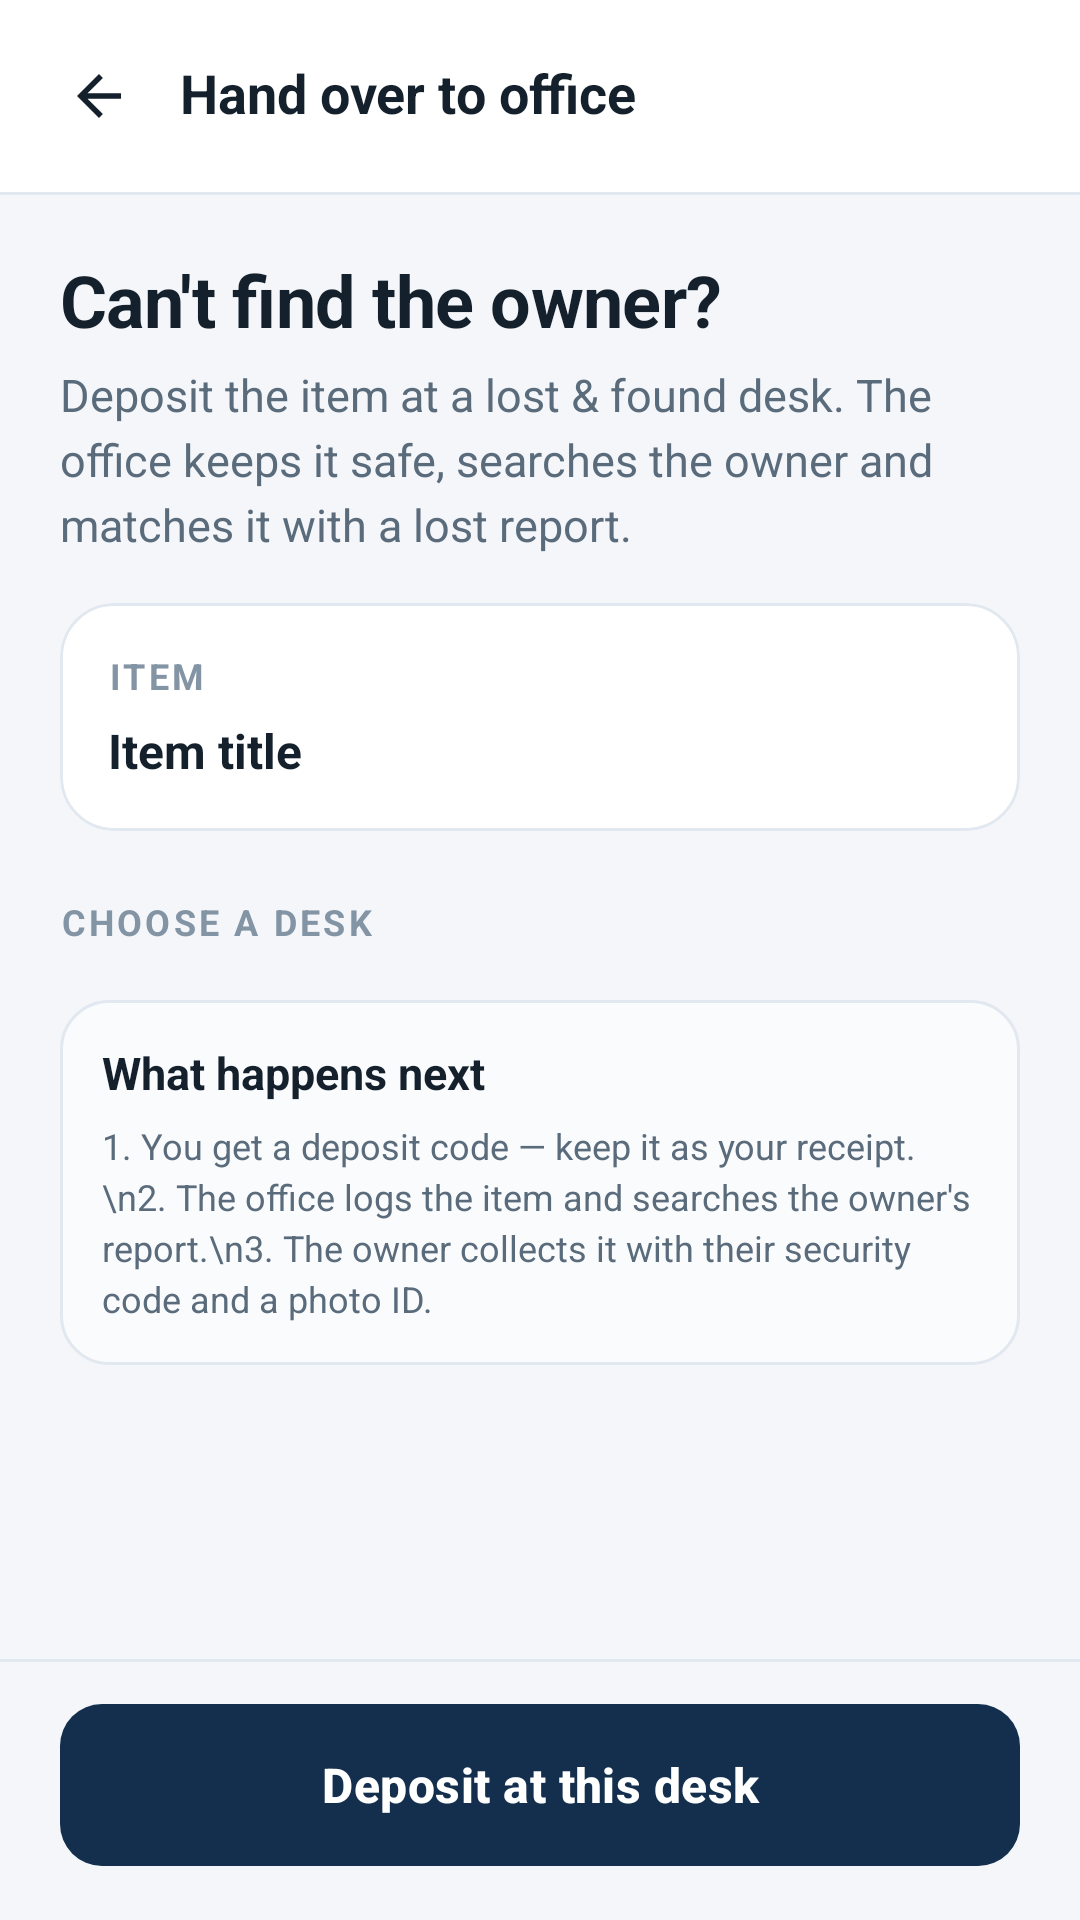

Where icons sit on this 1080 × 1920 app screen, as (x1, y1, x2, y2):
Back: (77, 74, 121, 118)
